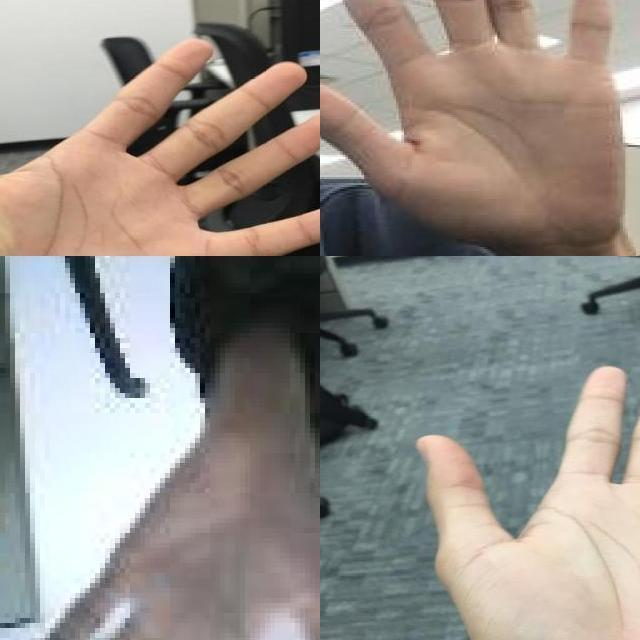no-gloves: (320, 0, 628, 251), (0, 36, 320, 256), (414, 355, 640, 640), (25, 423, 320, 640)
